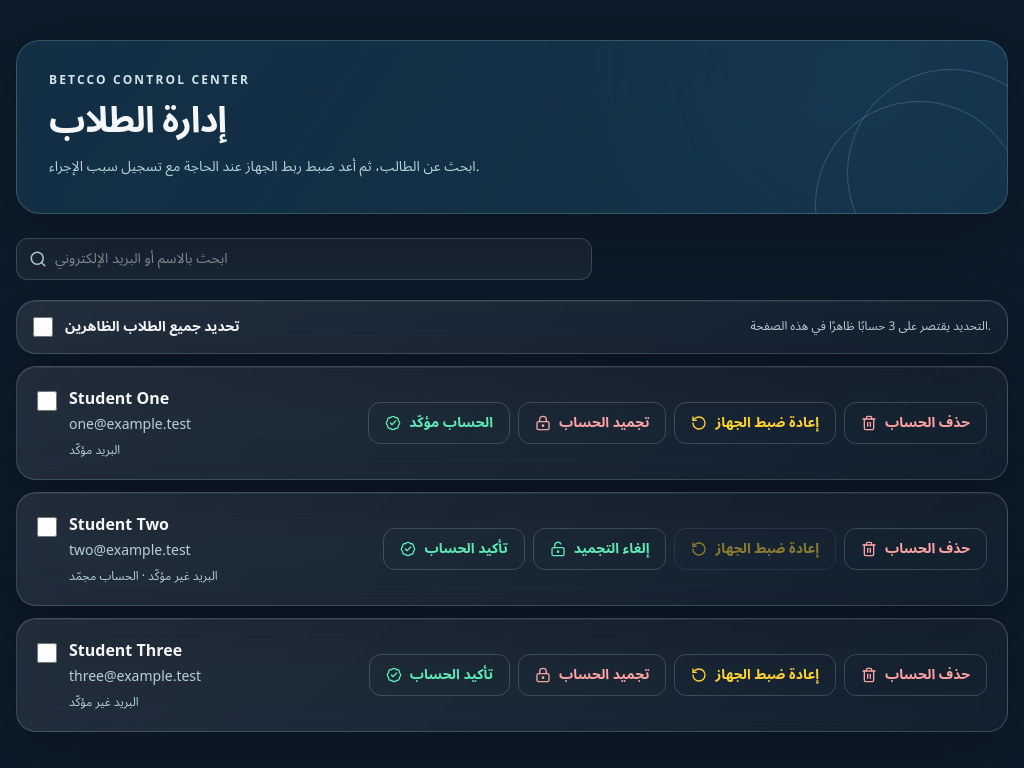
Test: Admin users ar — mocked UI-contract evidence › StudentManagement › preserves permanent delete warning, endpoint and students/dashboard invalidations
Expected: the text "Student One" is shown, [69, 382, 169, 416]
Click the button "حذف الحساب" in the row of "الحساب مؤكّد": (916, 423) [844, 402, 987, 444]
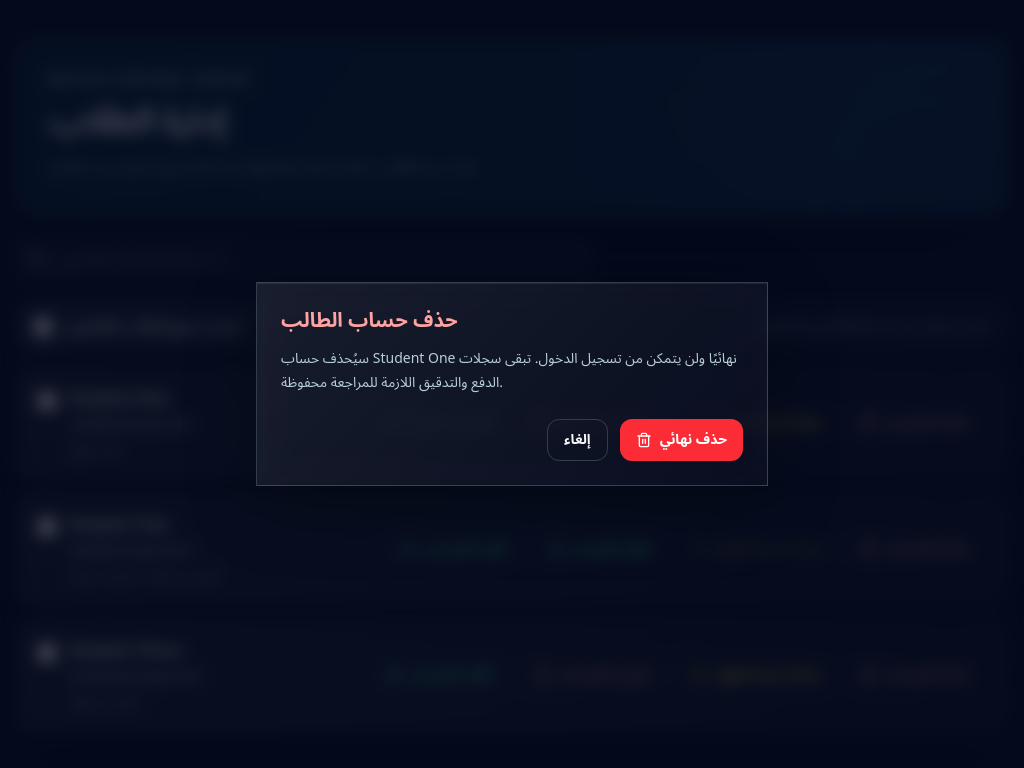
Now the dialog named "حذف حساب طالب" is shown
Click the button "حذف نهائي": (681, 440) [620, 419, 743, 461]
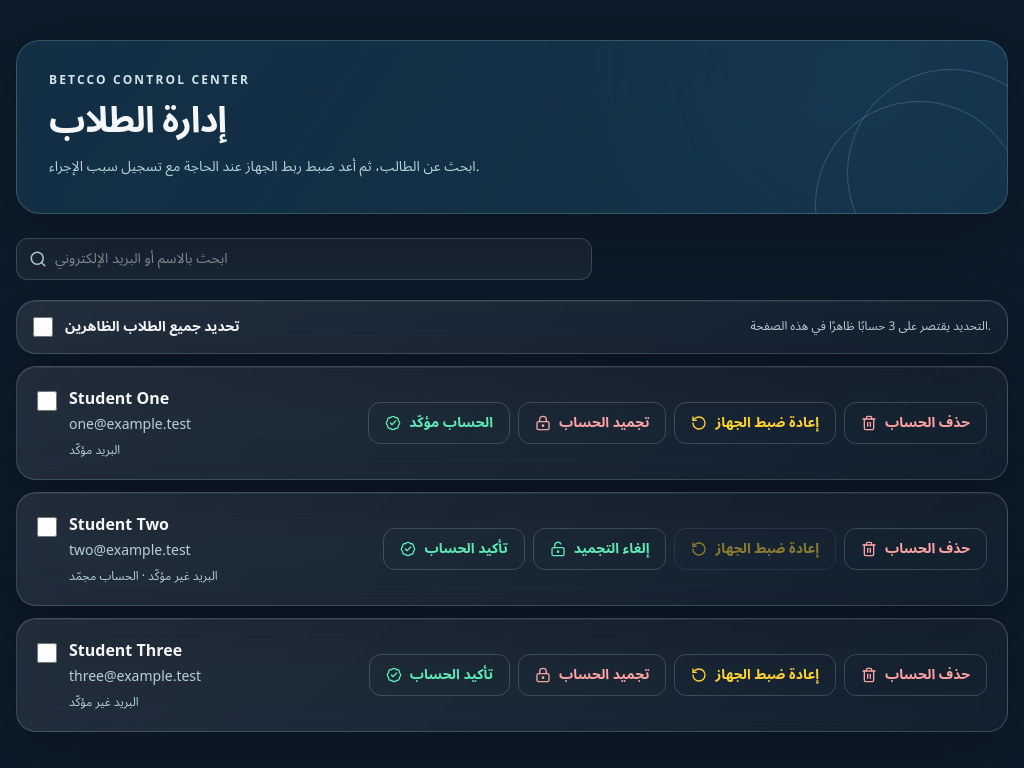
Now the dialog is gone
